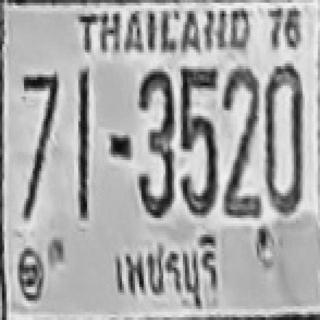N00: (263, 62, 303, 211)
N01: (76, 69, 89, 196)
N02: (222, 65, 259, 192), (222, 98, 259, 214)
N03: (136, 67, 173, 216)
N05: (178, 65, 218, 150)
N07: (22, 72, 59, 174), (22, 73, 59, 156)
P44: (108, 231, 224, 312)
